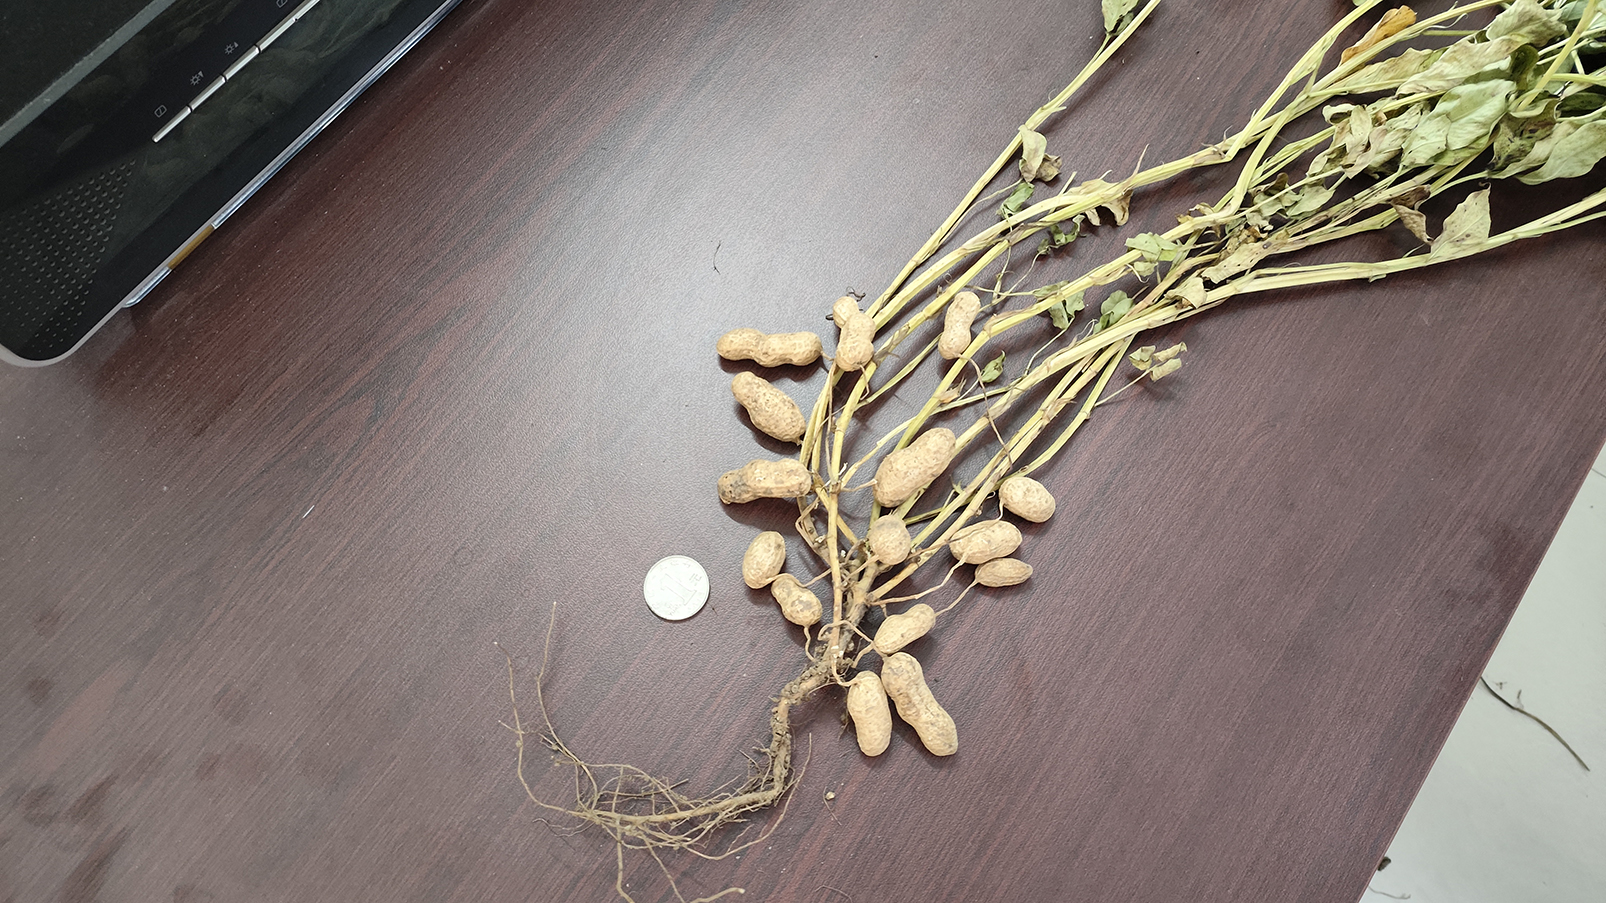h: (882, 651, 961, 754), (874, 428, 957, 507), (729, 369, 806, 440), (716, 455, 812, 505), (716, 325, 823, 367), (847, 670, 893, 757), (831, 294, 875, 370), (950, 519, 1024, 563), (875, 602, 936, 654), (939, 290, 978, 361), (741, 528, 786, 589), (999, 475, 1058, 520), (772, 576, 823, 623), (868, 513, 912, 565), (973, 558, 1035, 587)
